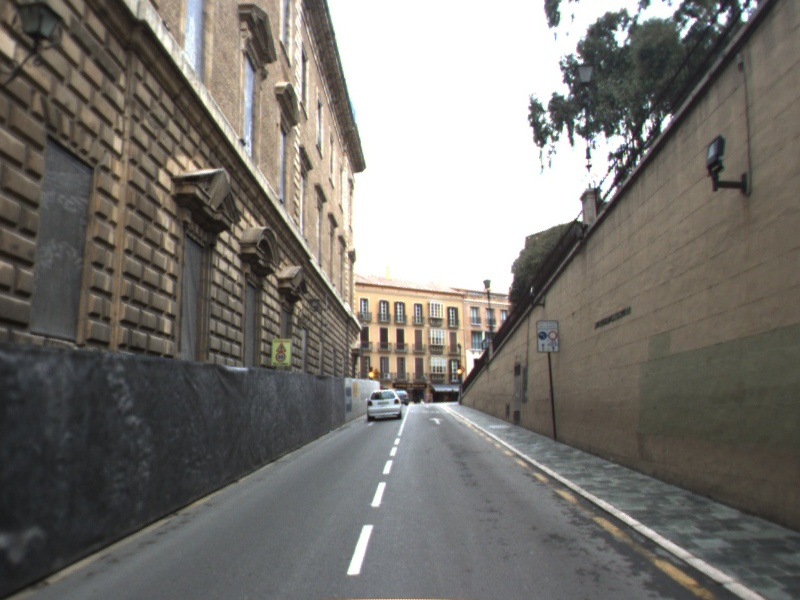STRAIGHT: (426, 415, 445, 427)
